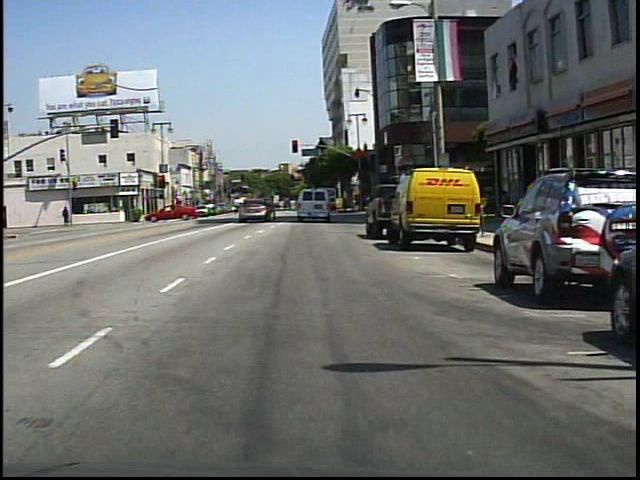person: (494, 184, 518, 226), (266, 193, 283, 224), (62, 205, 70, 225)
